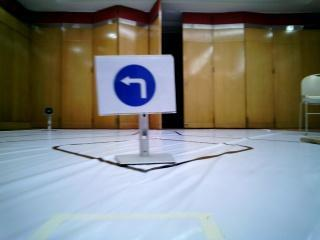left: (99, 55, 174, 112)
